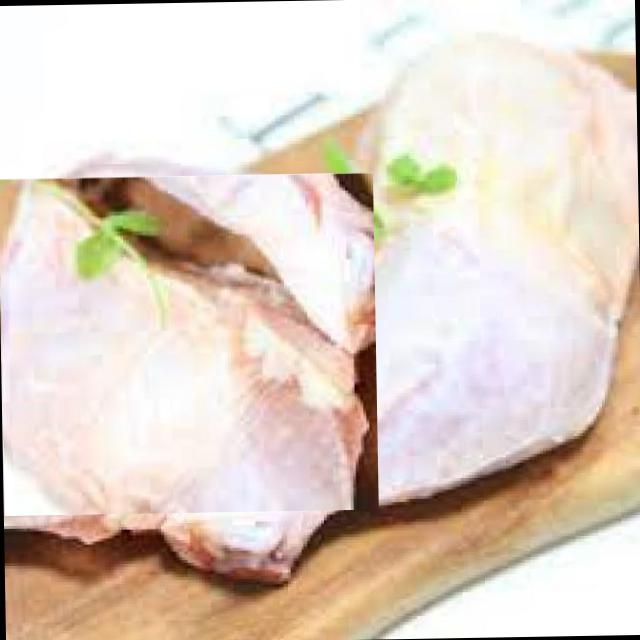chicken: (148, 11, 640, 591), (0, 152, 361, 534)
